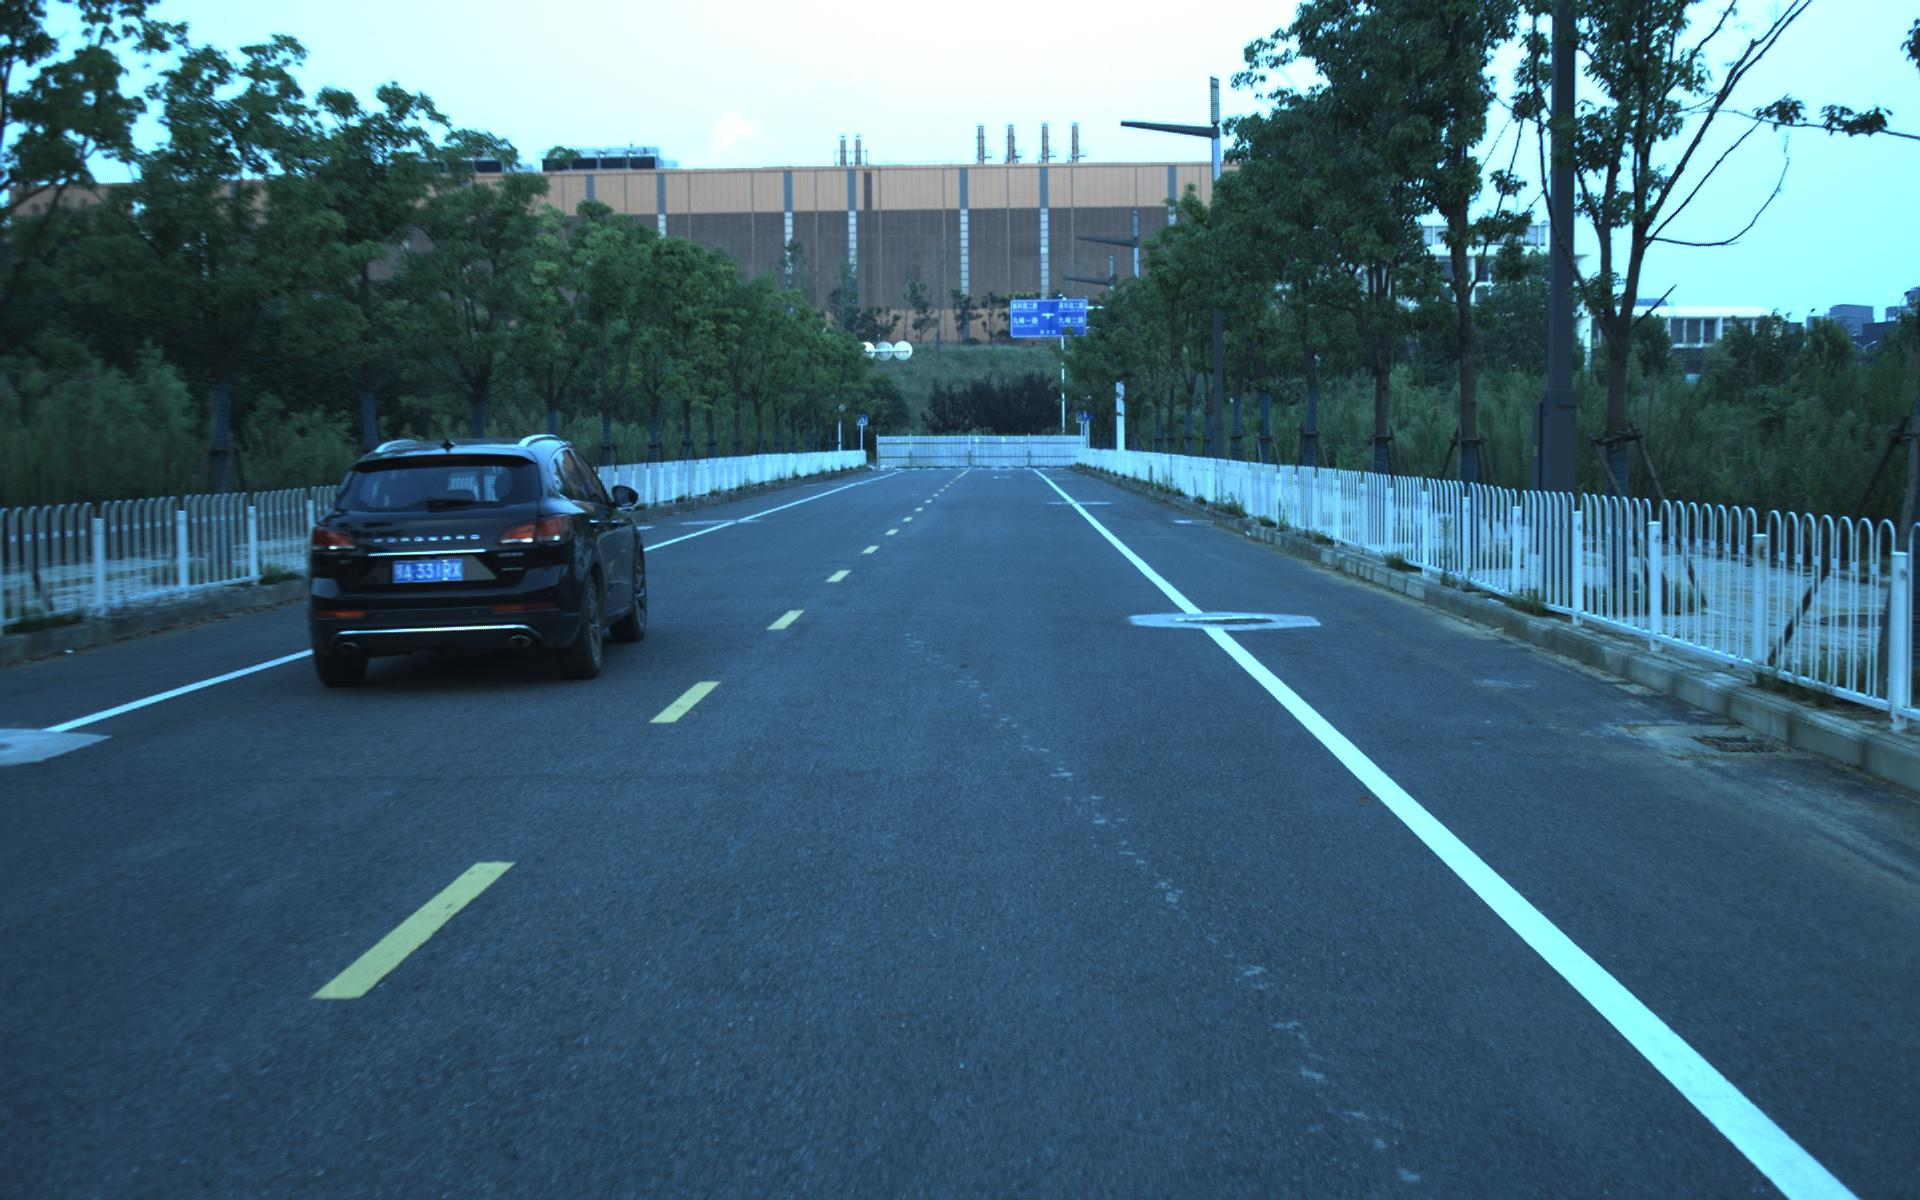Car: (290, 424, 655, 691)
